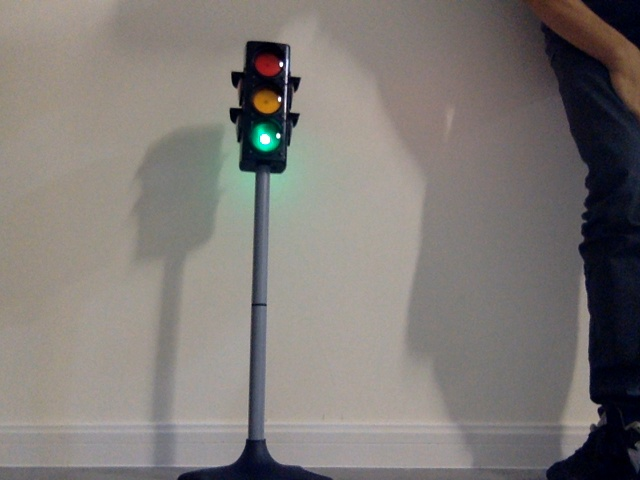green: (245, 44, 285, 161)
